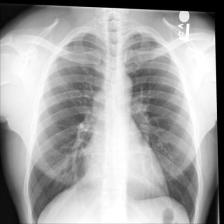normal: (24, 23, 203, 224)
